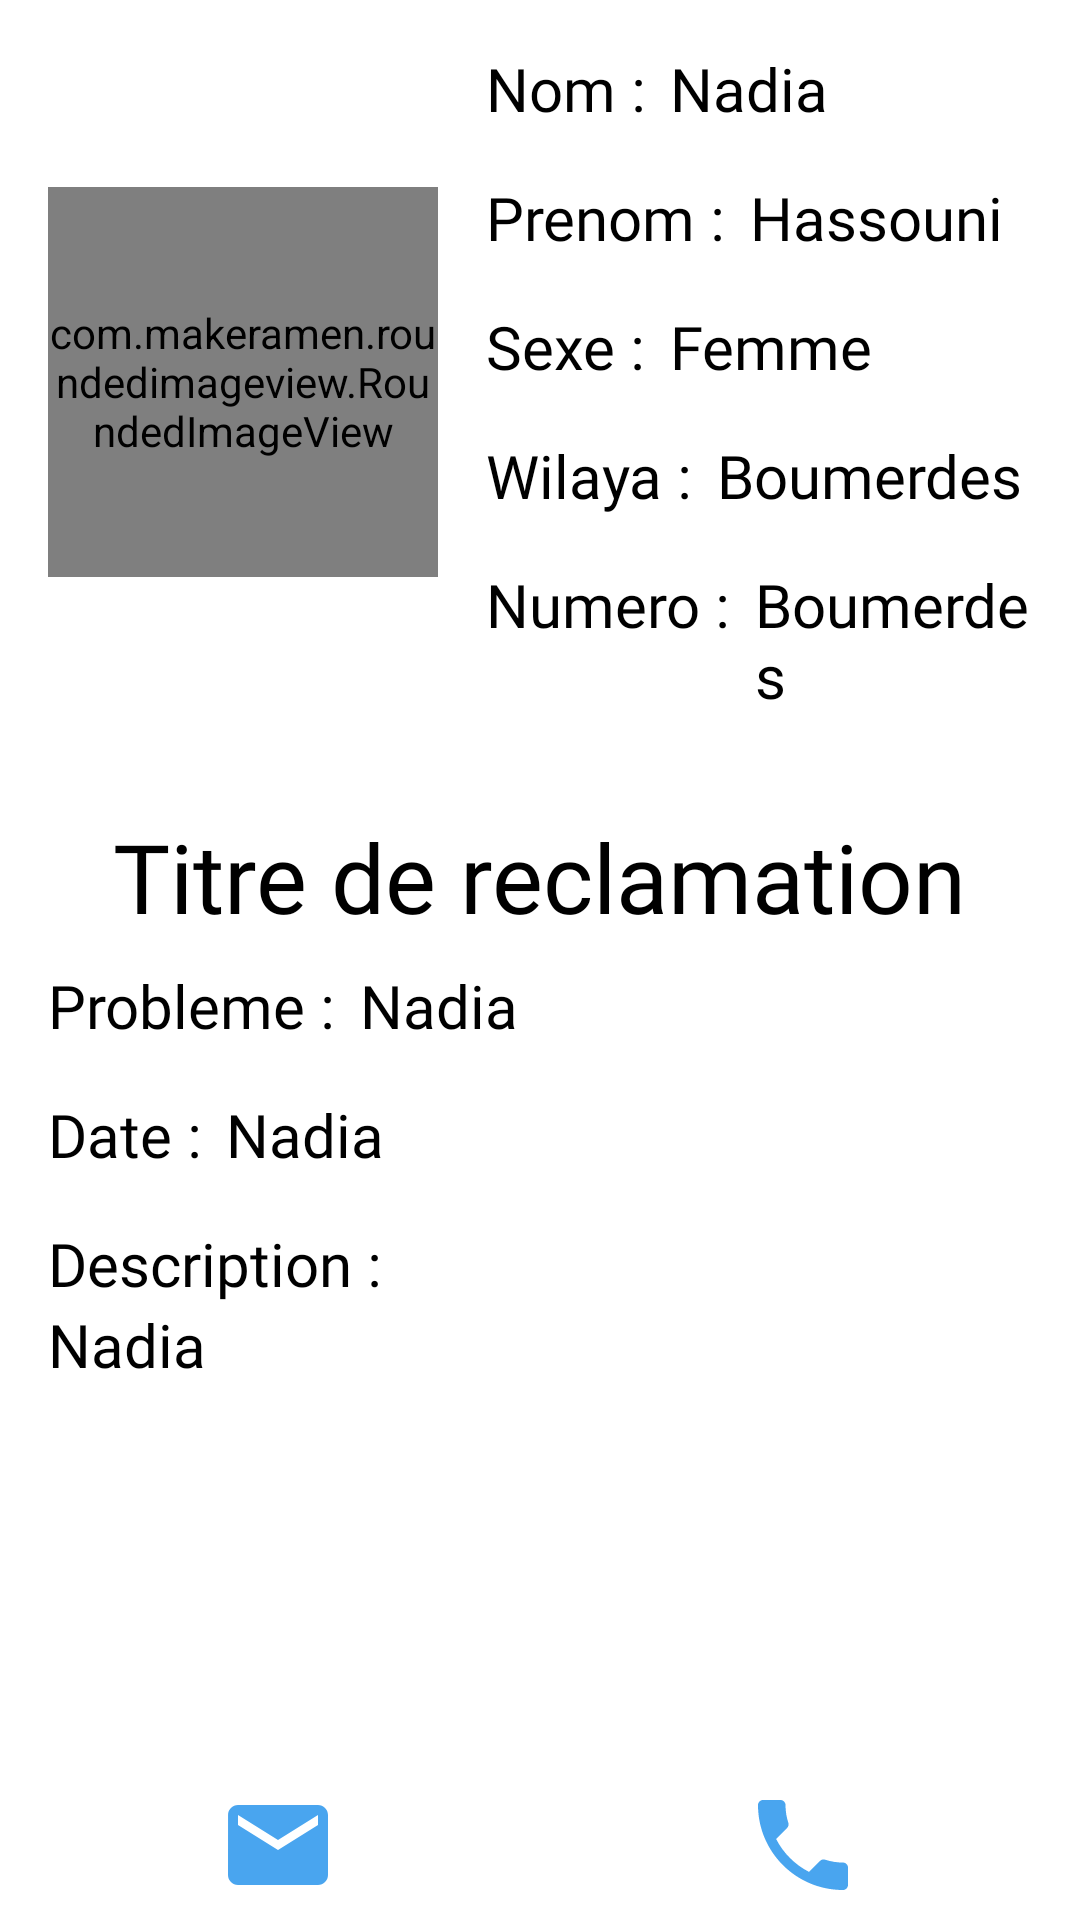

Where icons sit on this 1080x1920 app screen, as (x1, y1, x2, y2):
email: (228, 1805, 328, 1885)
phone: (758, 1800, 848, 1890)
